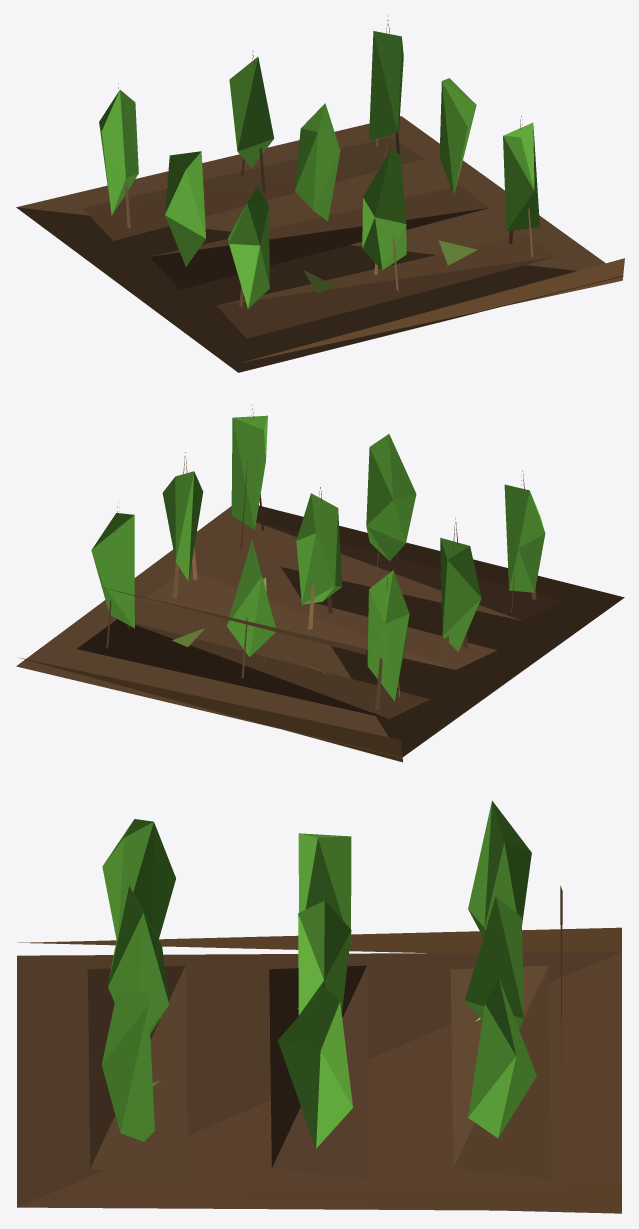
File: garden_plot_2_lod2.glb
3 views of the same model, one above another, from view 1: azimuth 30°, elevation 25°; view 2: azimuth 150°, elevation 25°; view 3: azimuth 270°, elevation 25° (orthographic). The views are drawn at different scales.
Parts seen in each view (by area): view 1: garden_plot_2_lod2; view 2: garden_plot_2_lod2; view 3: garden_plot_2_lod2.
Boxes of the visible parts, x1,y1,x2,y2 form: garden_plot_2_lod2: (16,15,624,372); garden_plot_2_lod2: (16,404,624,762); garden_plot_2_lod2: (17,800,621,1213).
Size of the model in its own units: 4.04 by 1.5 by 4.04.
